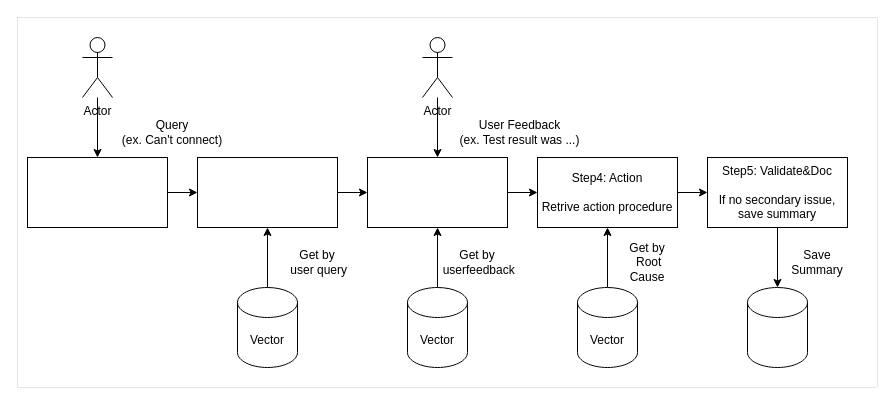
This 894x404 diagram has some shape labels left out. Each missing label, with the centre of its shape:
RDB: the point at 777,327
Step1: Identify Finding category (physical/network/switch): the point at 97,192
Step2: Locating Retrive test procedure and security check: the point at 267,192
Step3: Analyze Analyze root cause from user feedback: the point at 437,192
